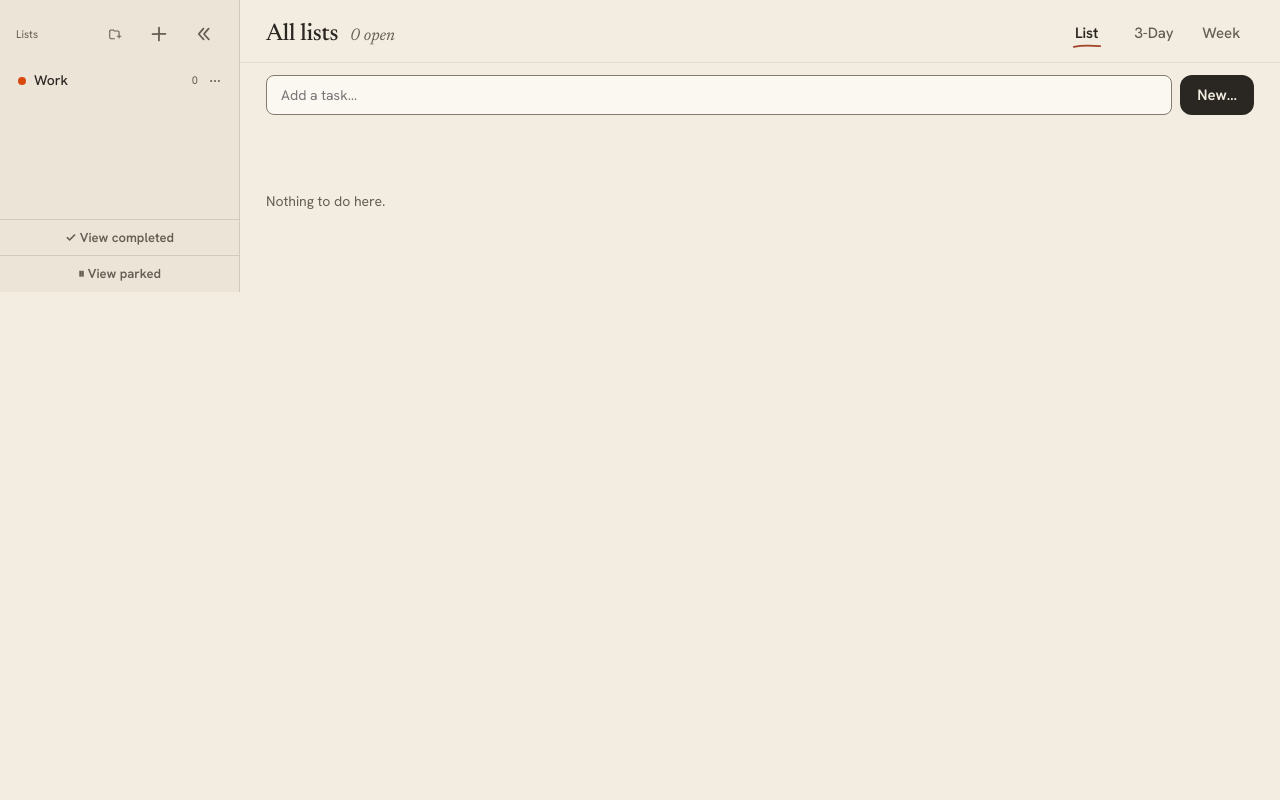
Test: <TasksView> creating › opens the form from an empty bar instead of doing nothing
This screenshot has width=1280, height=800.
Click the button "New…". click: (1217, 95)
box: [1180,75,1254,115]
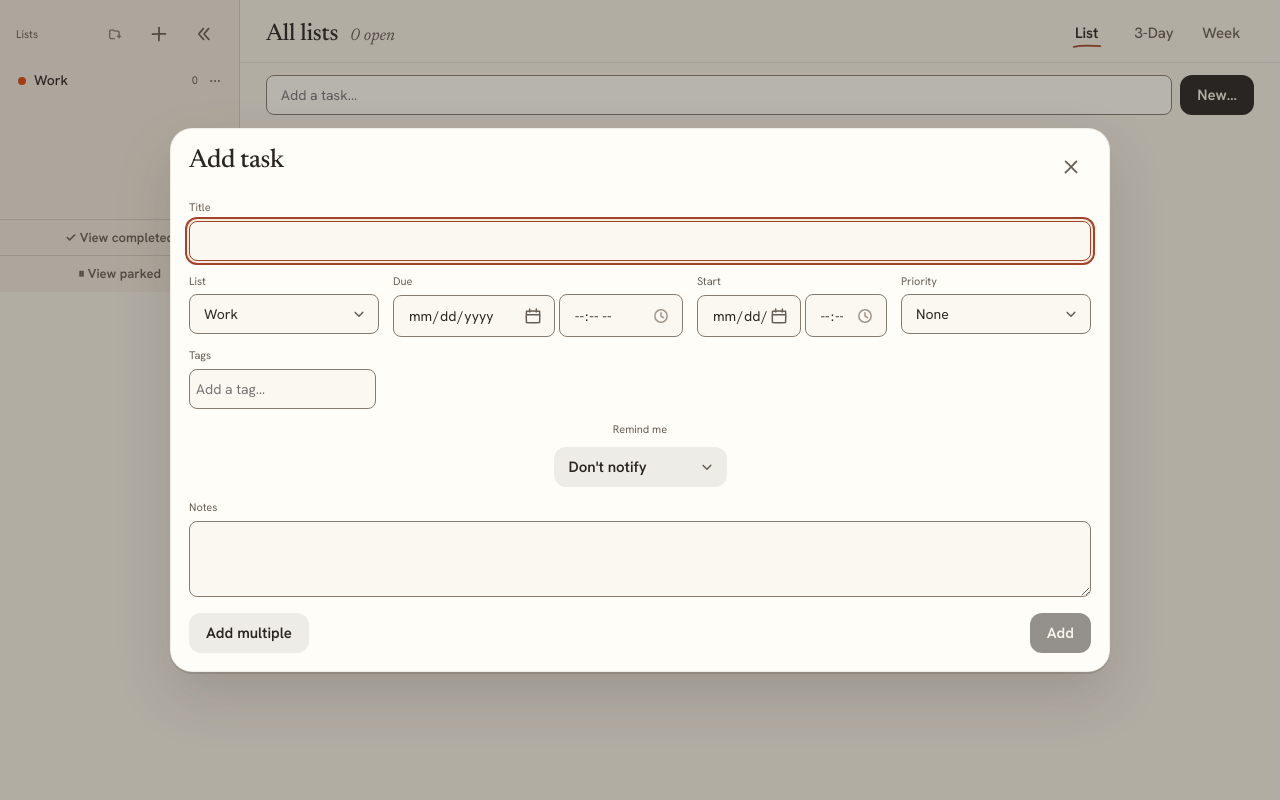
Expected: the dialog "Add task" is shown, [170,128,1110,672]
Expected: the button "Add" is disabled, [1030,613,1091,653]
